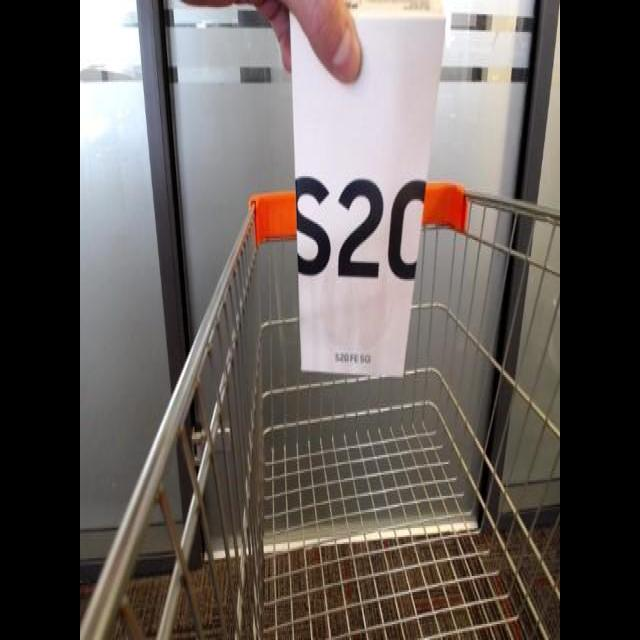Samsung S20: (286, 1, 449, 381)
